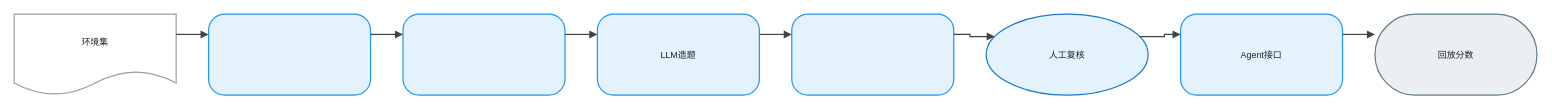
Some shapes in this 1552 by 110 pixel diagram are drawn without their labels. The centre of each missing label's shape, as x and y in pixels:
"任务采样" goes at point (483, 54).
"技能图" goes at point (289, 54).
"自动校验" goes at point (872, 54).
